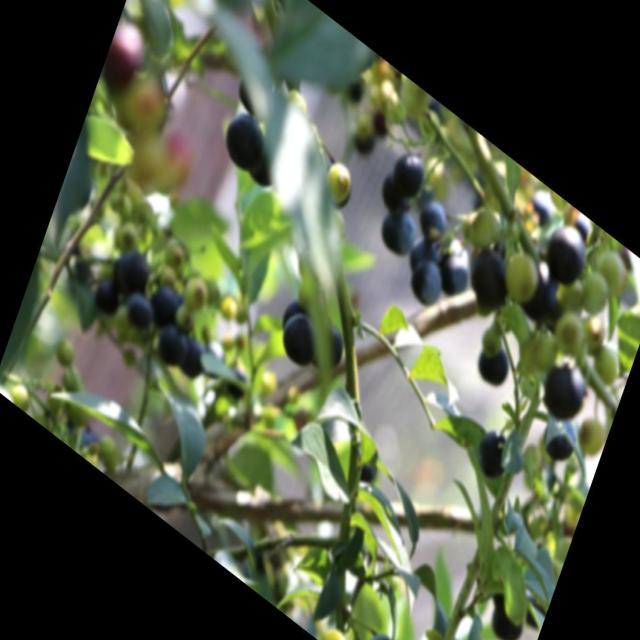blueberry: (466, 416, 524, 495), (535, 346, 591, 426), (540, 212, 593, 288), (218, 103, 270, 179), (465, 238, 516, 314), (534, 403, 583, 474), (374, 194, 422, 266), (277, 303, 325, 374), (309, 315, 352, 381), (472, 335, 514, 394), (391, 142, 431, 200), (145, 274, 182, 330), (408, 254, 445, 308), (156, 316, 192, 371), (117, 244, 152, 300), (440, 250, 477, 300), (416, 194, 450, 244), (358, 624, 405, 639)
blueberry-unripe: (588, 239, 634, 305), (500, 242, 544, 310), (460, 195, 502, 256), (318, 151, 358, 212), (574, 261, 613, 321), (588, 336, 626, 391), (511, 357, 549, 410), (550, 305, 586, 359), (578, 308, 612, 360), (575, 411, 607, 462), (320, 615, 352, 639), (342, 634, 374, 639)
